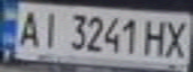1: (118, 15, 142, 55)
2: (84, 12, 106, 54)
3: (63, 10, 87, 52)
4: (103, 14, 124, 54)
A: (12, 7, 45, 48)
H: (139, 16, 172, 57)
I: (36, 8, 66, 50)
X: (160, 17, 193, 60)
